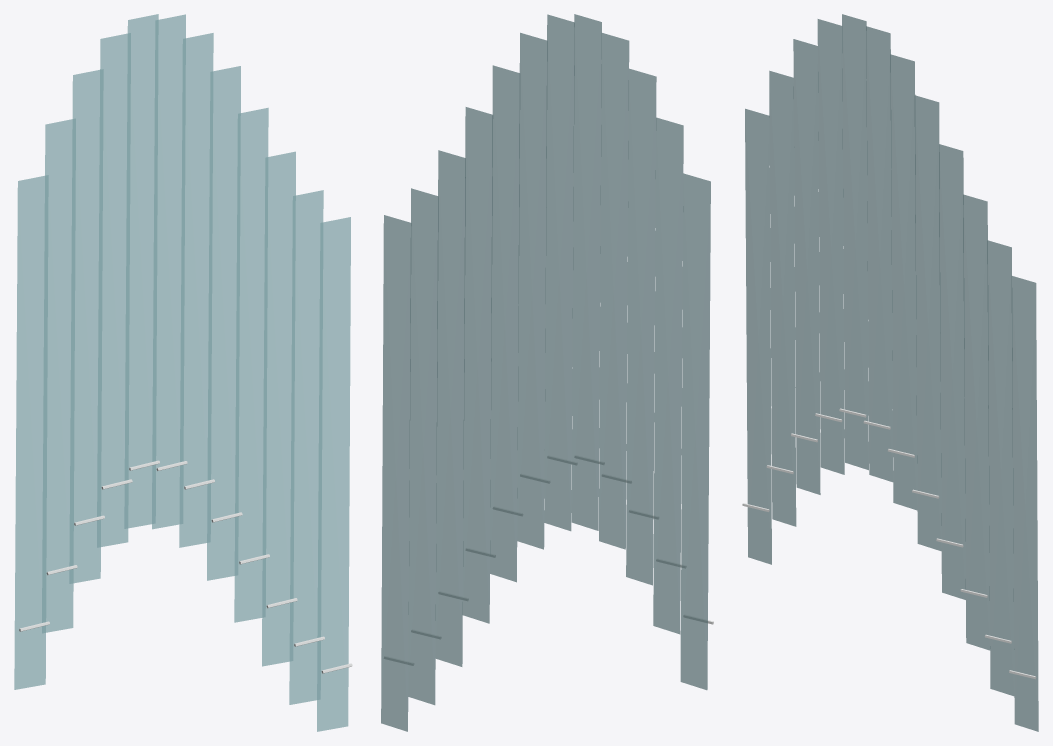
File: aurora_cian.glb
3 renders of one model, left to right at view 1: azimuth 30°, elevation 25°; view 2: azimuth 150°, elevation 25°; view 3: azimuth 330°, elevation 25°, orthographic. The views are drawn at different scales.
Visible parts, largest first — view 1: aurora_cian; view 2: aurora_cian; view 3: aurora_cian.
Part boxes in pixels (x1,y1,x2,y2): aurora_cian: (14, 14, 352, 731); aurora_cian: (381, 14, 713, 731); aurora_cian: (742, 14, 1038, 731).
Bounding box in the file's own units: 5.43 × 11.91 × 0.1838.
